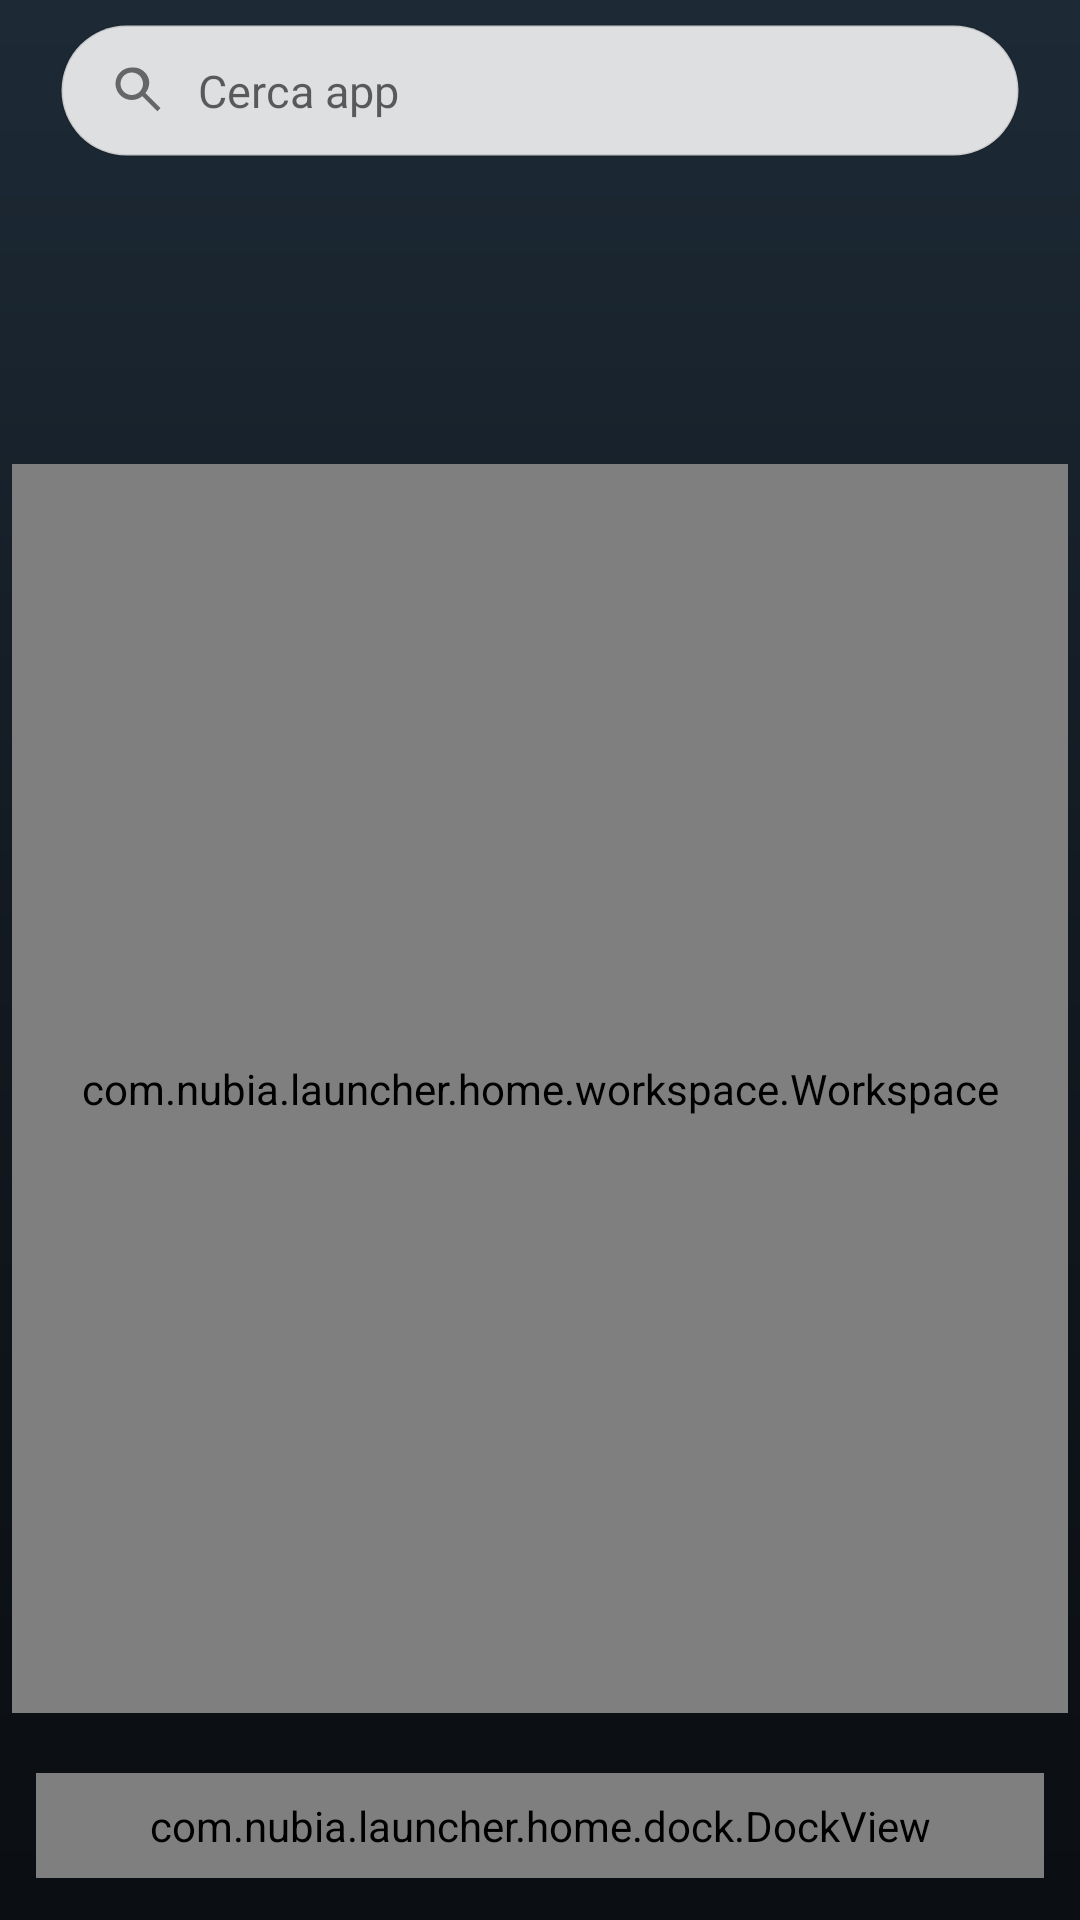

Point at icon controls on the screen. Image size 1080 × 1920, points as [x,y].
search: [137,89]
